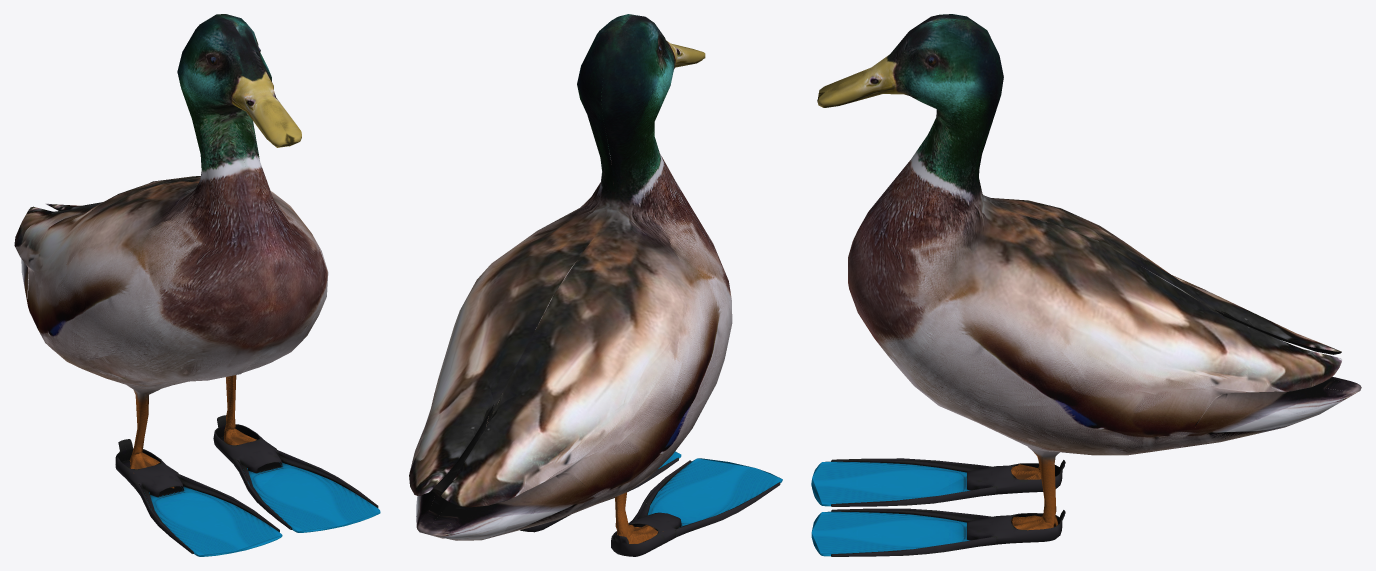
File: pato.glb
3 renders of one model, left to right at view 1: azimuth 30°, elevation 25°; view 2: azimuth 150°, elevation 25°; view 3: azimuth 270°, elevation 25°, orthographic. The views are drawn at different scales.
Parts seen in each view (by area): view 1: 12248_Bird_v1_L2; view 2: 12248_Bird_v1_L2; view 3: 12248_Bird_v1_L2.
Part boxes in pixels (<box>): 12248_Bird_v1_L2: <box>14,14,380,556</box>; 12248_Bird_v1_L2: <box>409,14,782,556</box>; 12248_Bird_v1_L2: <box>811,14,1361,556</box>.
Size of the model in its own units: 1.76 by 3.57 by 3.62.
2 materials, 2 textured.
